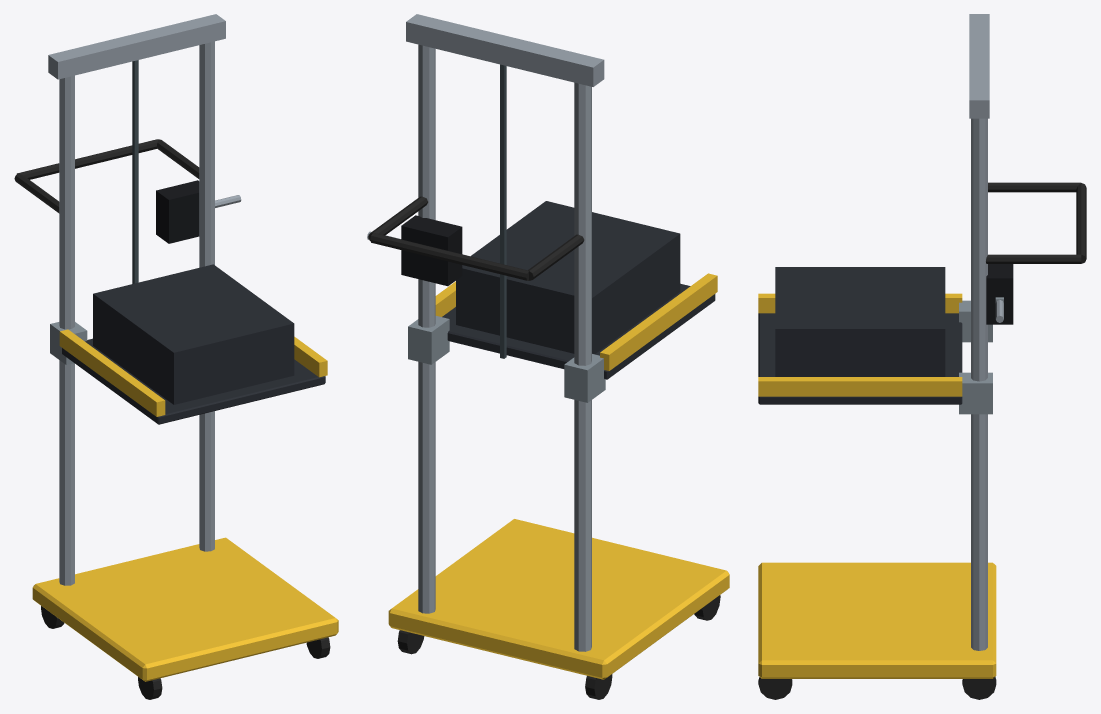
The model's file is 33_Server_Lift_Trolley.fbx.
3 renders of one model, left to right at view 1: azimuth 30°, elevation 25°; view 2: azimuth 150°, elevation 25°; view 3: azimuth 270°, elevation 25°, orthographic. The views are drawn at different scales.
Visible parts, largest first — view 1: 33_Server_Lift_Trolley; view 2: 33_Server_Lift_Trolley; view 3: 33_Server_Lift_Trolley.
Boxes of the visible parts, x1,y1,x2,y2 form: 33_Server_Lift_Trolley: (14, 14, 338, 699); 33_Server_Lift_Trolley: (367, 14, 729, 699); 33_Server_Lift_Trolley: (758, 14, 1086, 699).
Size of the model in its own units: 75 by 194 by 96.5.
